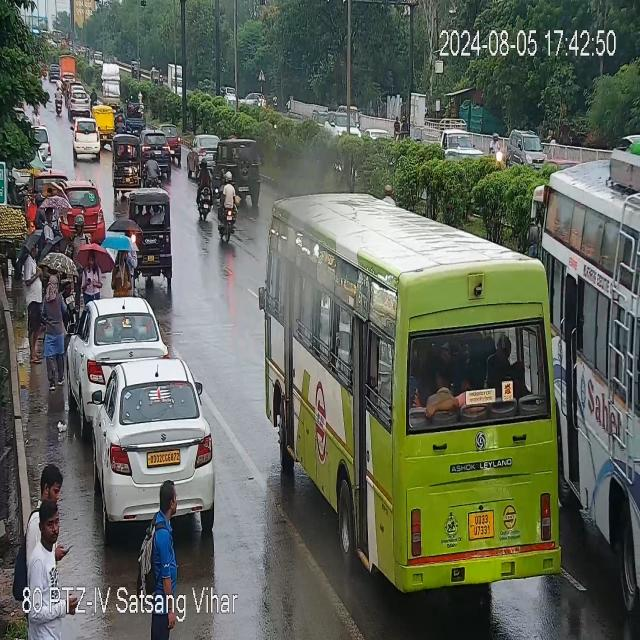2-wheelers: (214, 174, 242, 244), (195, 160, 218, 222), (146, 153, 159, 189), (489, 129, 502, 162), (55, 85, 63, 113)
auto: (126, 190, 174, 282), (113, 135, 143, 189), (93, 108, 117, 140), (121, 103, 148, 131)
bus: (263, 185, 557, 588), (530, 129, 640, 601)
car: (84, 360, 218, 530), (70, 297, 162, 402), (218, 134, 262, 196), (66, 185, 104, 241), (511, 127, 543, 169), (70, 120, 102, 160), (186, 134, 214, 172), (36, 126, 54, 172), (67, 89, 92, 115), (166, 120, 182, 160), (144, 130, 168, 154)
pedestrian: (30, 453, 74, 548), (145, 476, 182, 588), (22, 244, 43, 357), (44, 276, 65, 388), (80, 231, 108, 305), (30, 183, 60, 231), (112, 230, 136, 288)
truck: (421, 116, 472, 147)
